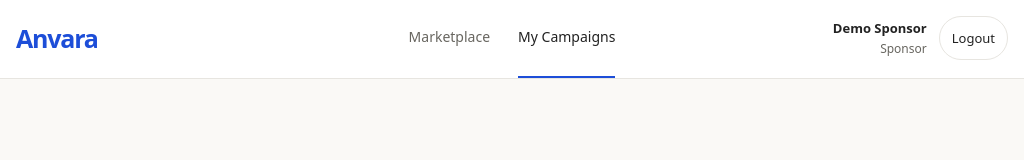
Test: marks the current role dashboard and recovers from sign-out failure
This screenshot has width=1024, height=160.
Click the button "Logout" at point(973, 38), box [939,16,1008,60]
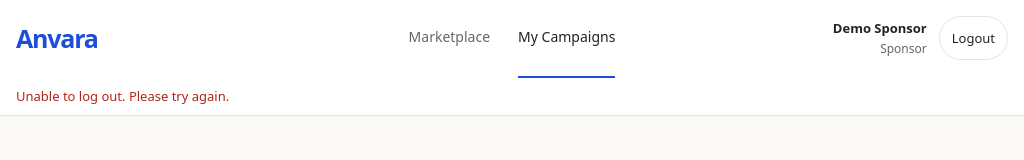
Now the message reads "Unable to log out. Please try again.", box [16,87,229,105]
